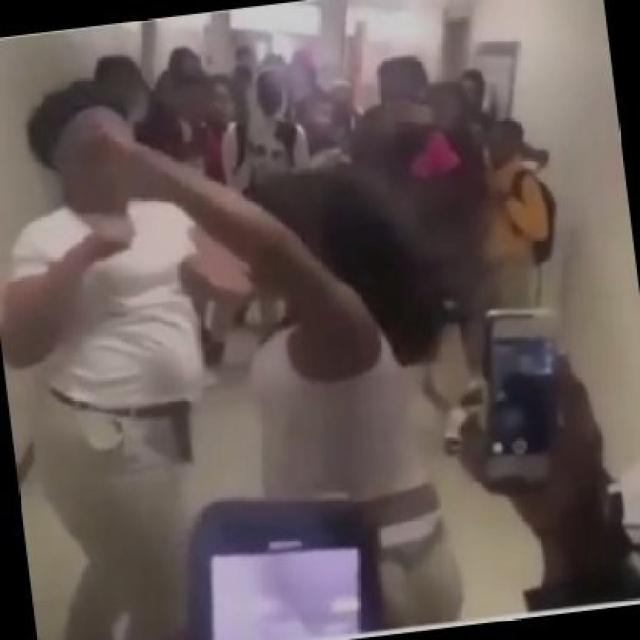fight: (0, 83, 476, 638)
